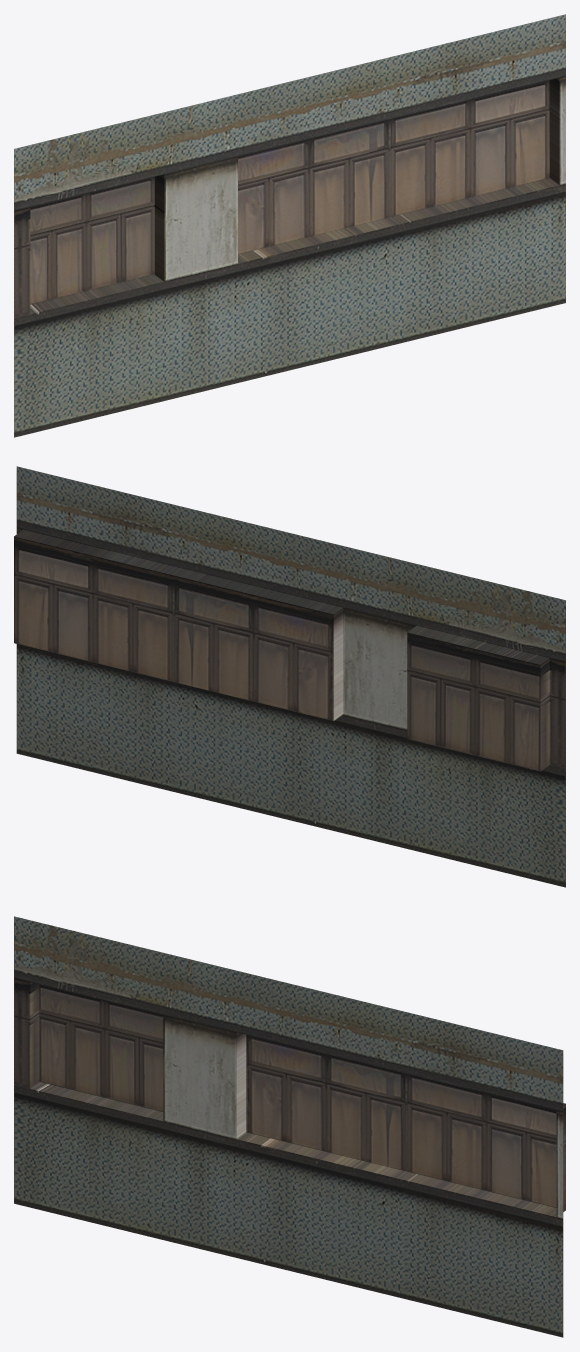
File: CT_Building_Piece_04.fbx
3 views of the same model, one above another, from view 1: azimuth 30°, elevation 25°; view 2: azimuth 150°, elevation 25°; view 3: azimuth 330°, elevation 25° (orthographic).
Parts seen in each view (by area): view 1: CT_Building_Piece_04; view 2: CT_Building_Piece_04; view 3: CT_Building_Piece_04.
Part boxes in pixels (x1,y1,x2,y2): CT_Building_Piece_04: (14, 14, 565, 437); CT_Building_Piece_04: (14, 466, 565, 887); CT_Building_Piece_04: (14, 916, 565, 1337).
Bounding box in the file's own units: 512 × 256 × 15.
